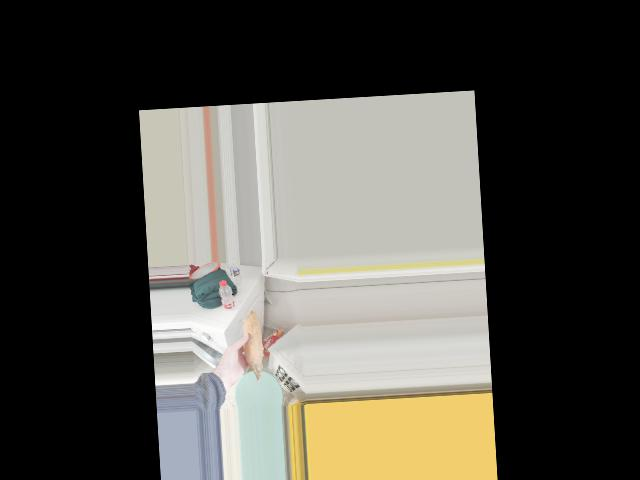sweet_potato: (239, 318, 264, 376)
